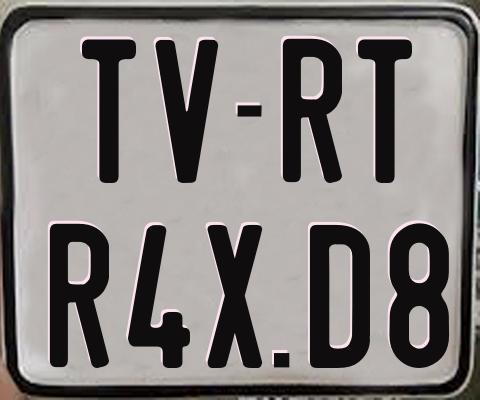4: (127, 222, 195, 367)
8: (389, 221, 452, 372)
D: (307, 224, 373, 367)
R: (47, 221, 111, 370), (282, 38, 342, 186)
T: (79, 37, 138, 187), (357, 37, 412, 182)
V: (155, 38, 218, 184)
X: (208, 224, 266, 371)
